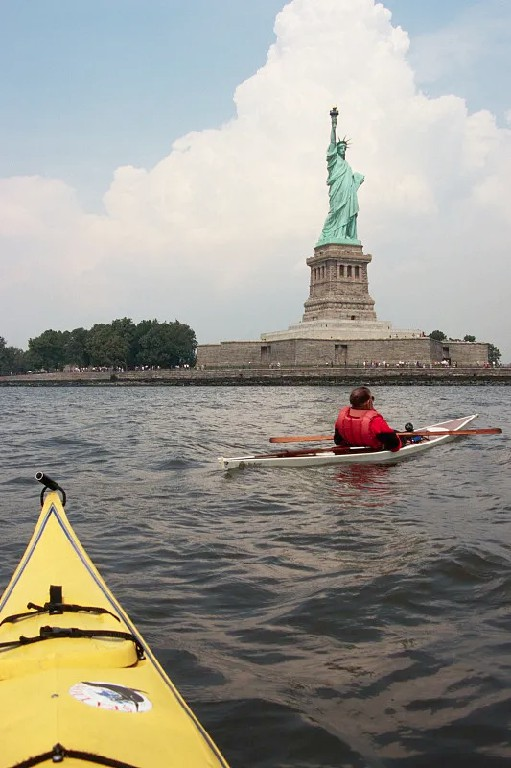SL: (302, 106, 377, 321)
